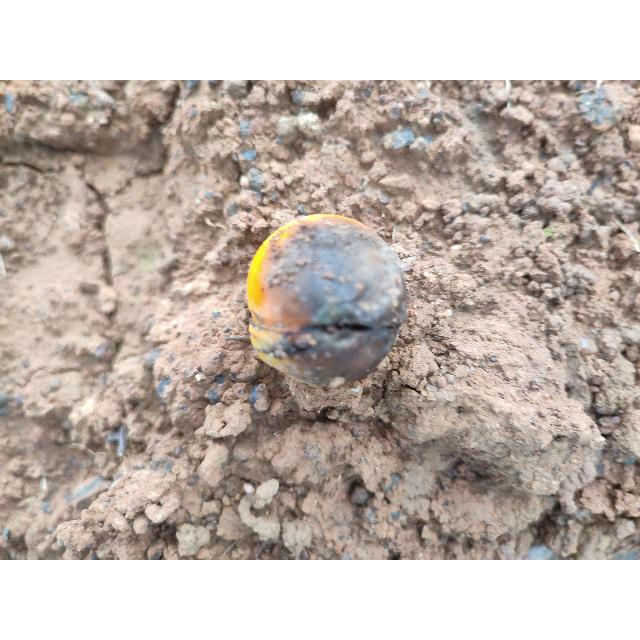damaged: (244, 214, 412, 391)
